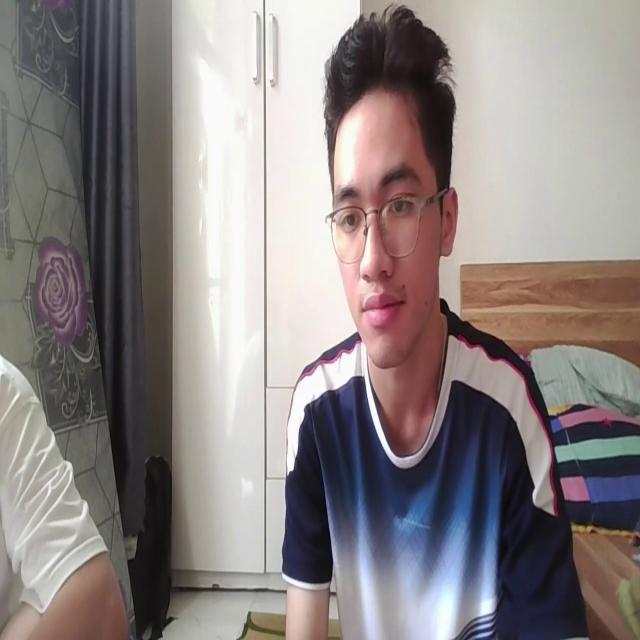student: (274, 4, 592, 640)
